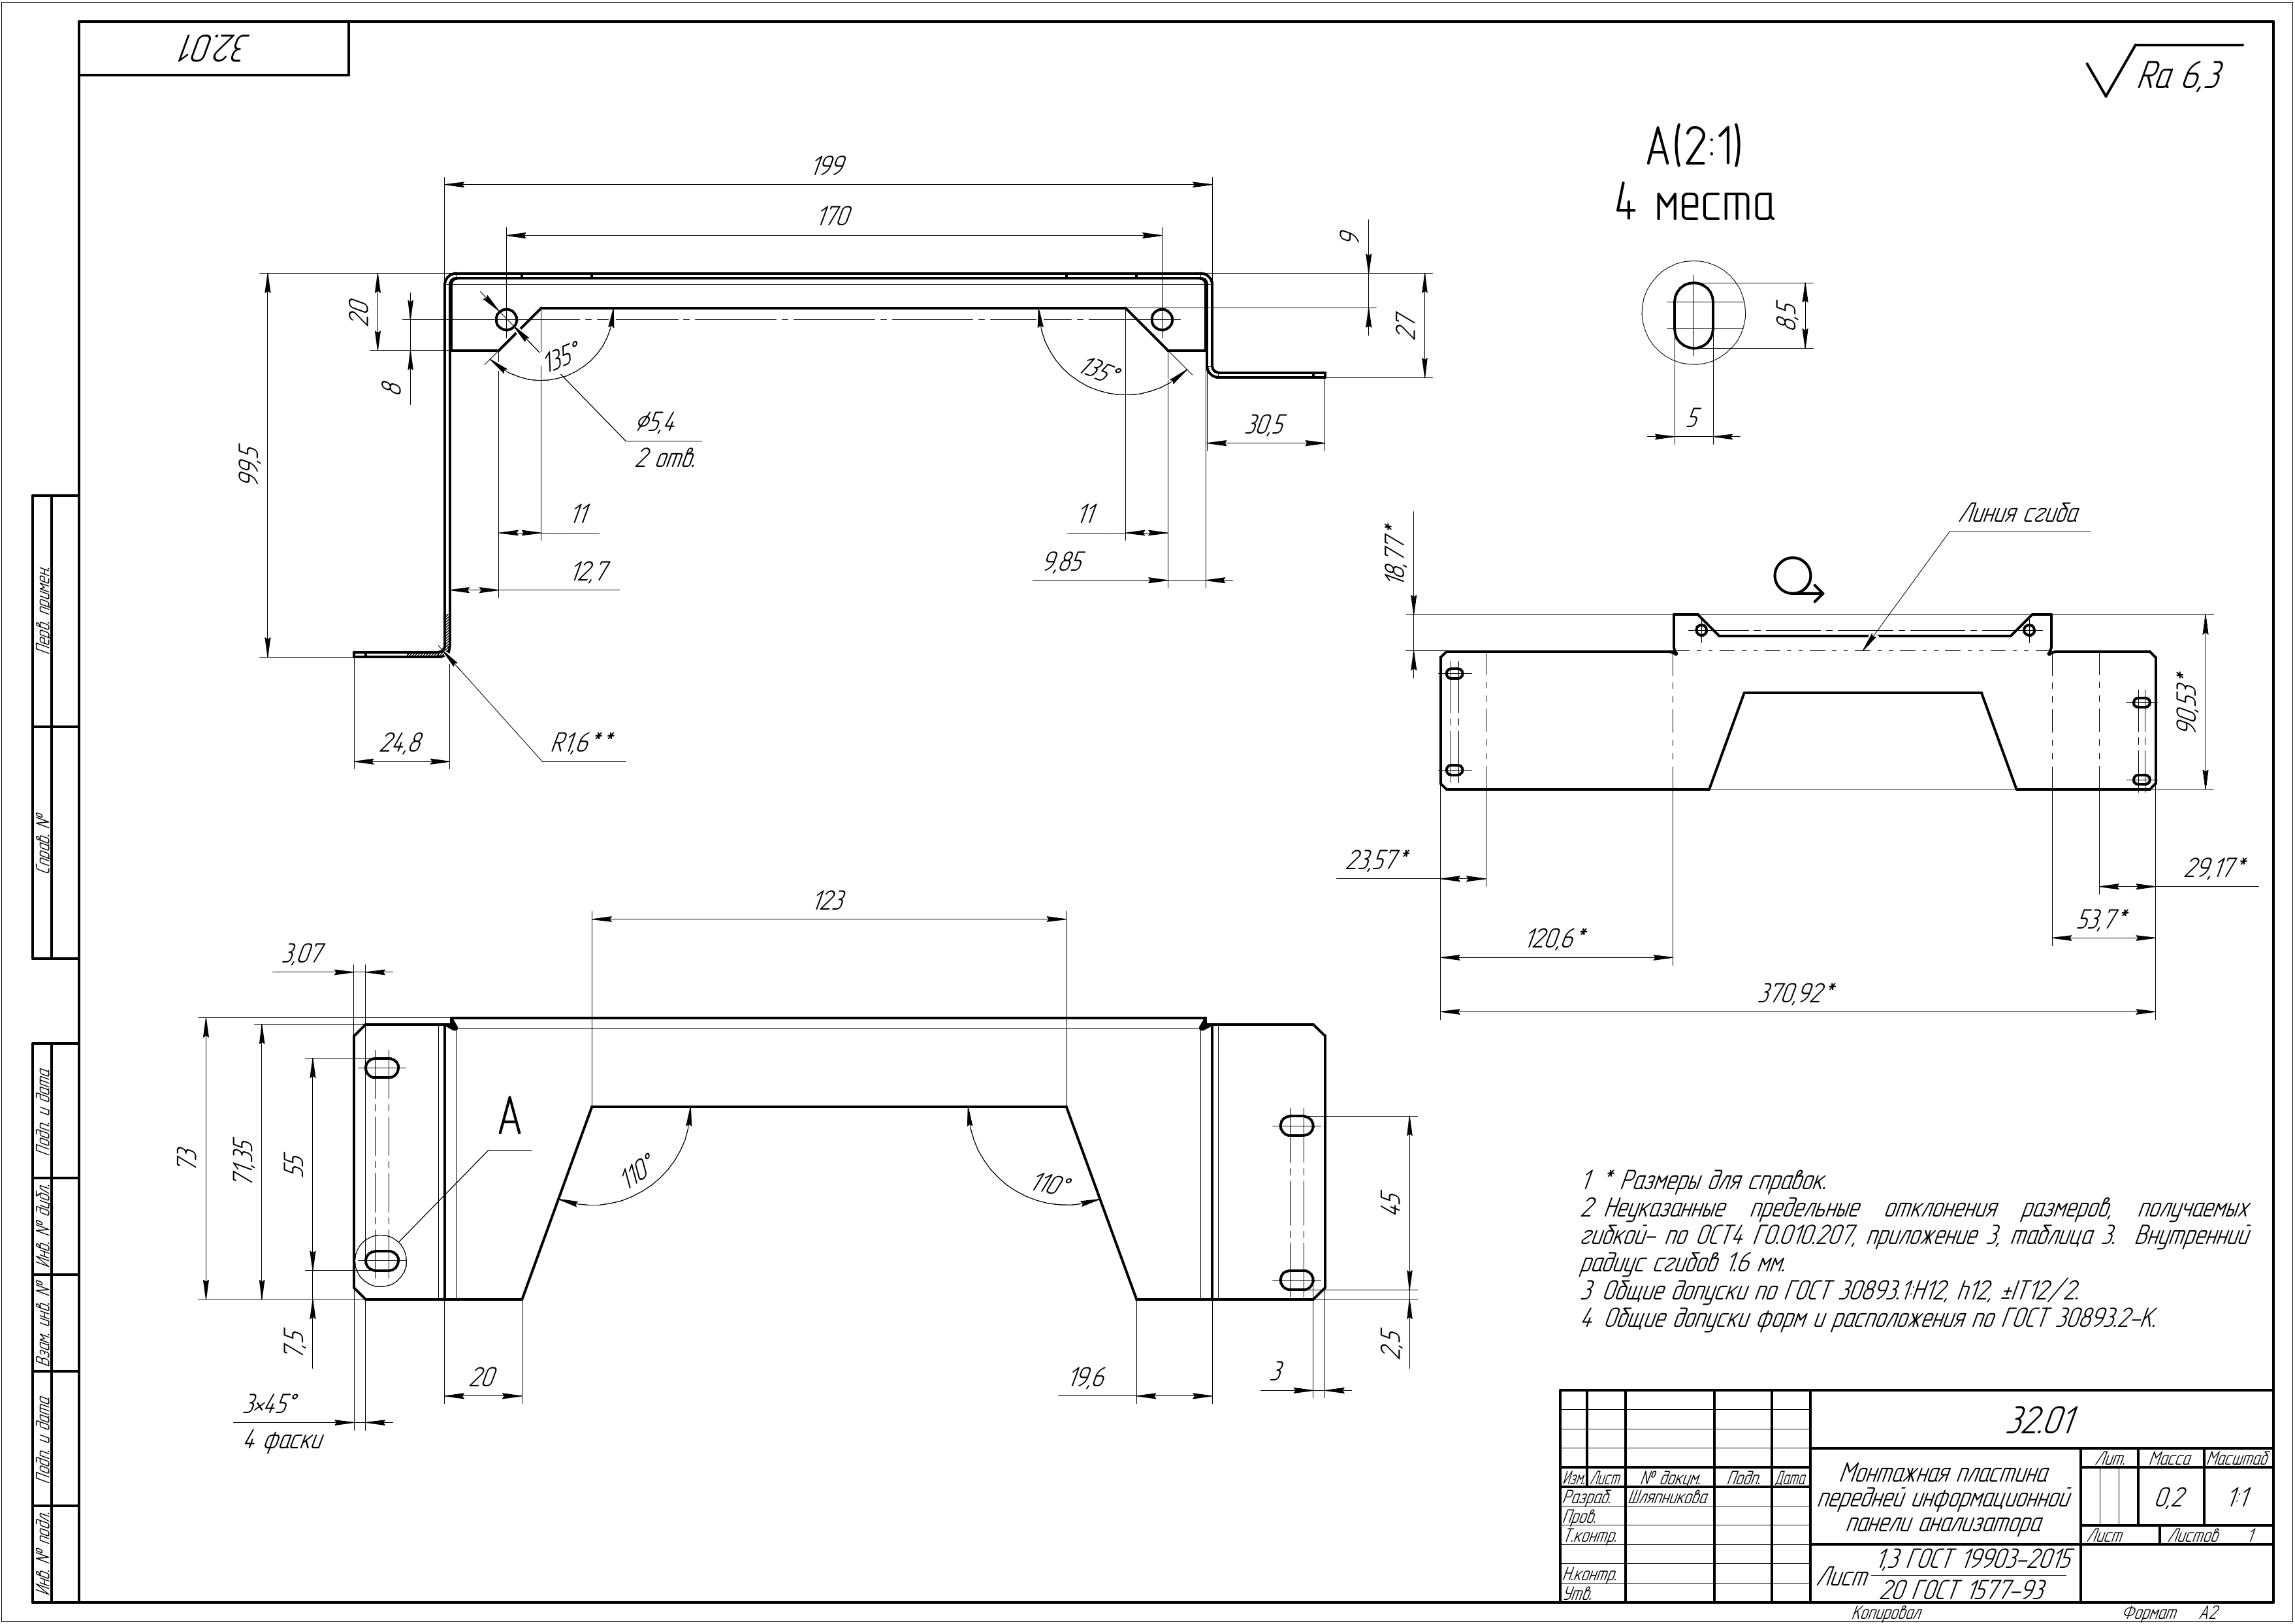Диаметральный размер: (626, 404, 703, 445)
Линейный размер: (1436, 977, 2158, 1021), (441, 153, 1216, 188), (503, 204, 1167, 239), (589, 886, 1068, 923), (235, 269, 272, 663), (172, 1012, 211, 1301), (228, 1021, 267, 1304), (1437, 924, 1676, 963), (448, 552, 624, 601), (2170, 612, 2218, 793), (1032, 548, 1234, 589), (281, 1053, 318, 1272), (1378, 1113, 1420, 1304), (1376, 506, 1420, 682), (1332, 844, 1490, 888), (1051, 1362, 1221, 1403), (2095, 851, 2262, 891), (1204, 411, 1327, 455), (271, 937, 395, 979), (1336, 216, 1376, 337), (1392, 271, 1436, 381), (351, 724, 453, 772), (2045, 903, 2160, 944), (494, 497, 603, 540), (279, 1246, 316, 1369), (1647, 401, 1741, 448), (376, 290, 415, 406), (1256, 1355, 1353, 1401), (1067, 499, 1170, 538), (1378, 1265, 1416, 1369), (439, 1366, 527, 1406), (1771, 279, 1817, 352), (344, 271, 381, 353)
Общая шероховатость: (2081, 37, 2248, 104)
Технические требования: (1571, 1158, 2255, 1336)
Угловой размер: (554, 1098, 698, 1213), (965, 1098, 1105, 1211), (1033, 309, 1191, 399), (481, 301, 620, 385)
Фаска: (228, 1385, 395, 1457), (232, 1390, 392, 1431)
